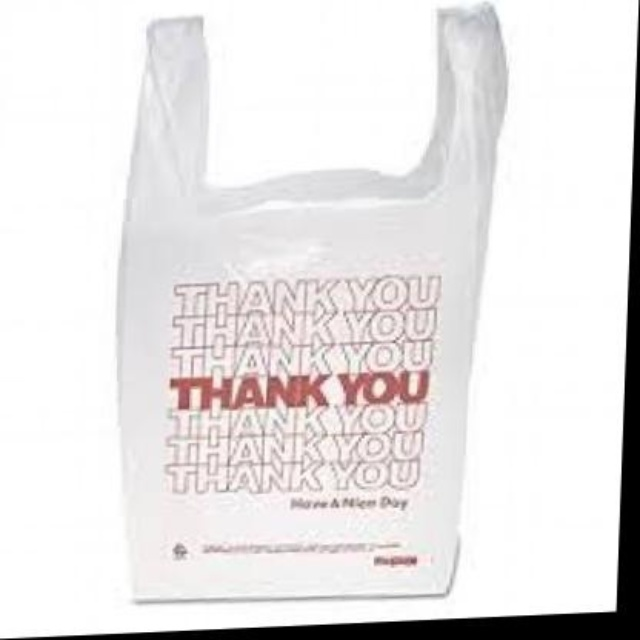trash: (118, 3, 506, 598)
